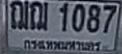0: (71, 3, 84, 31)
1: (59, 2, 67, 31)
7: (103, 5, 116, 32)
8: (86, 4, 99, 32)
A12: (29, 0, 49, 32), (9, 0, 29, 31)
SPK: (21, 36, 103, 53)
